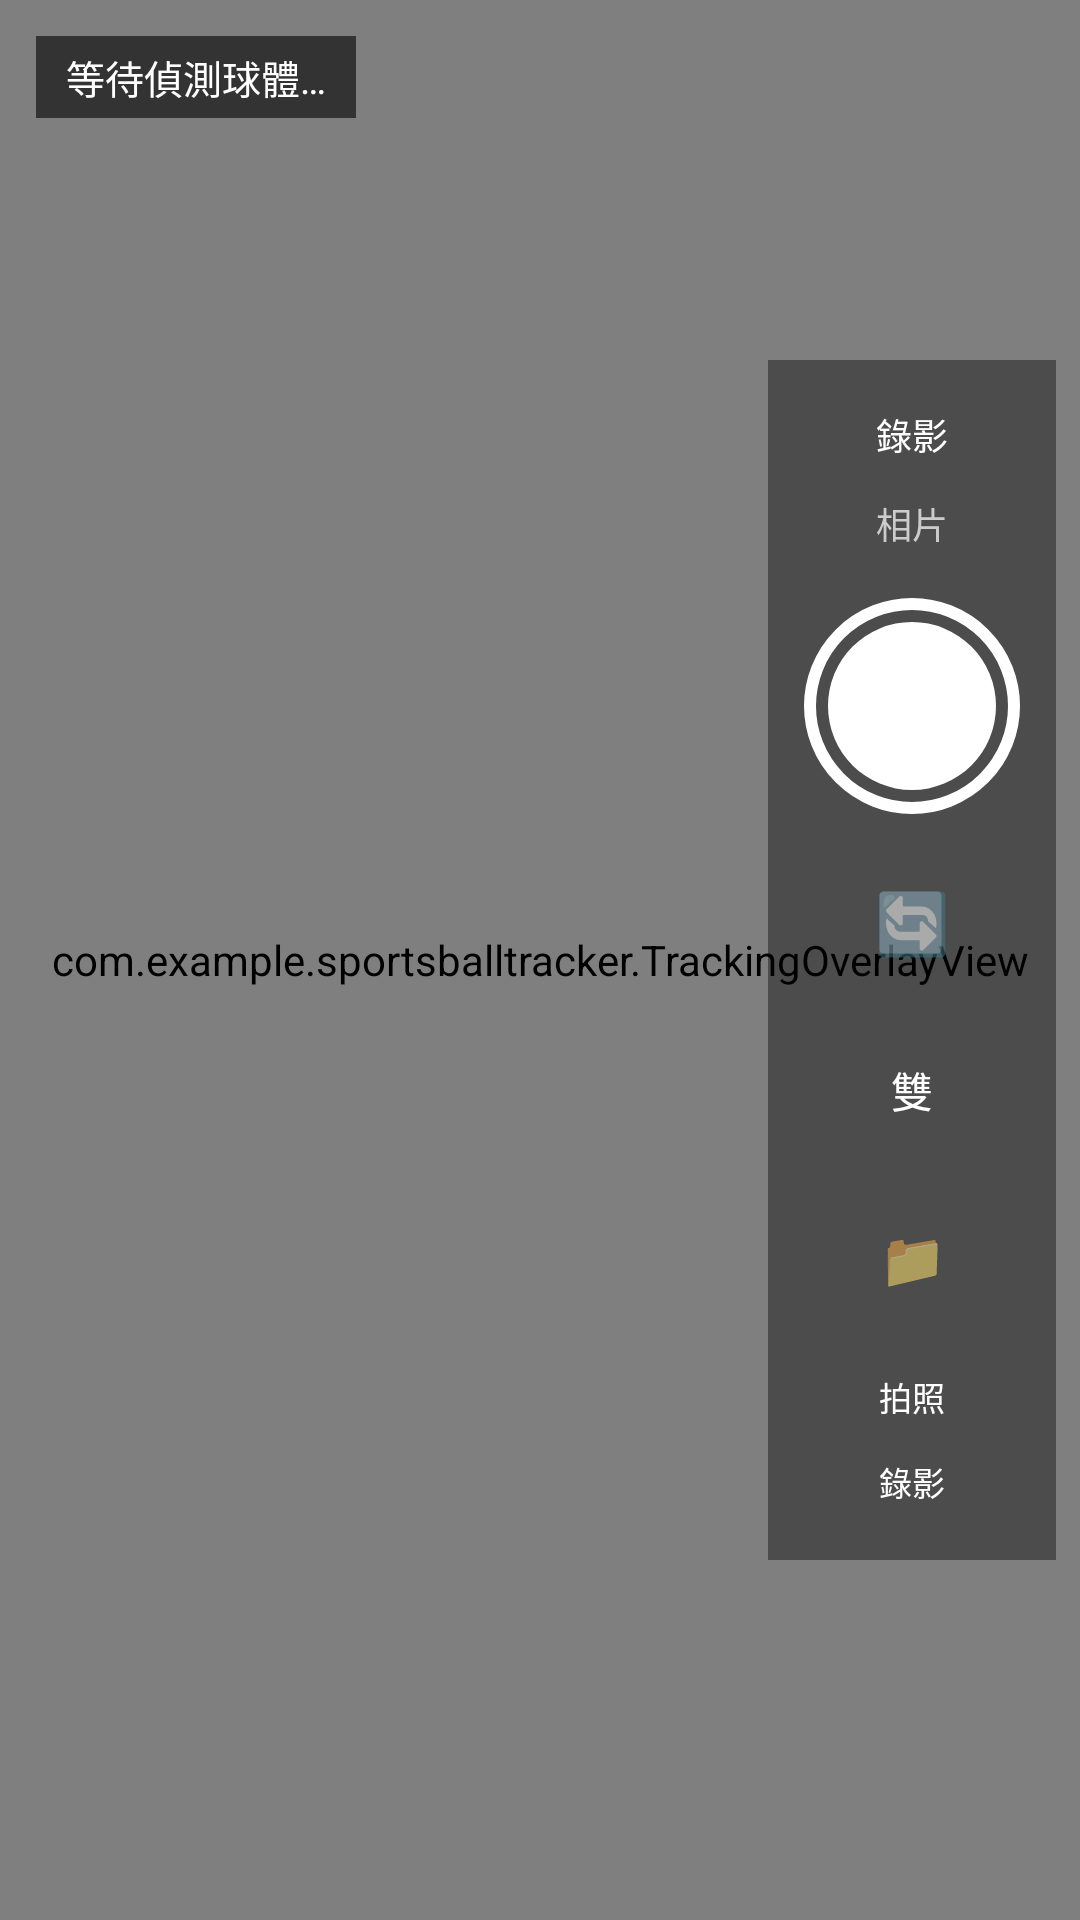

Where to tap for icons on this 1080 × 1920 app screen, as [x,y]:
shutter ring: [912,706]
